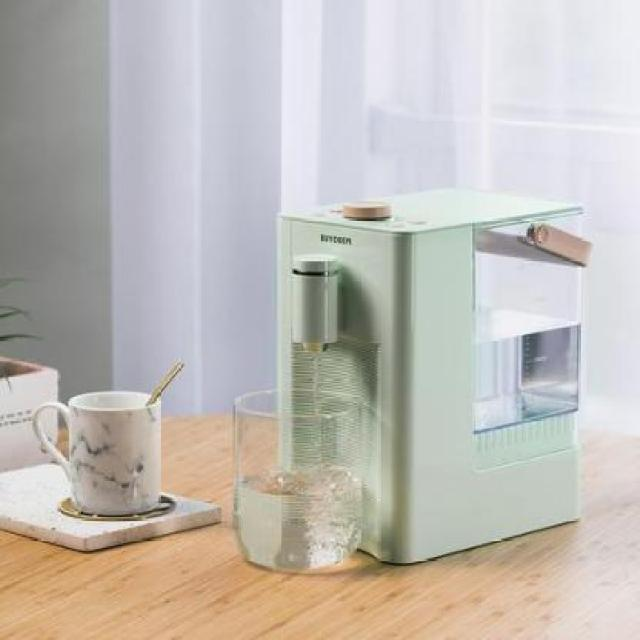cooler: (275, 183, 594, 567)
